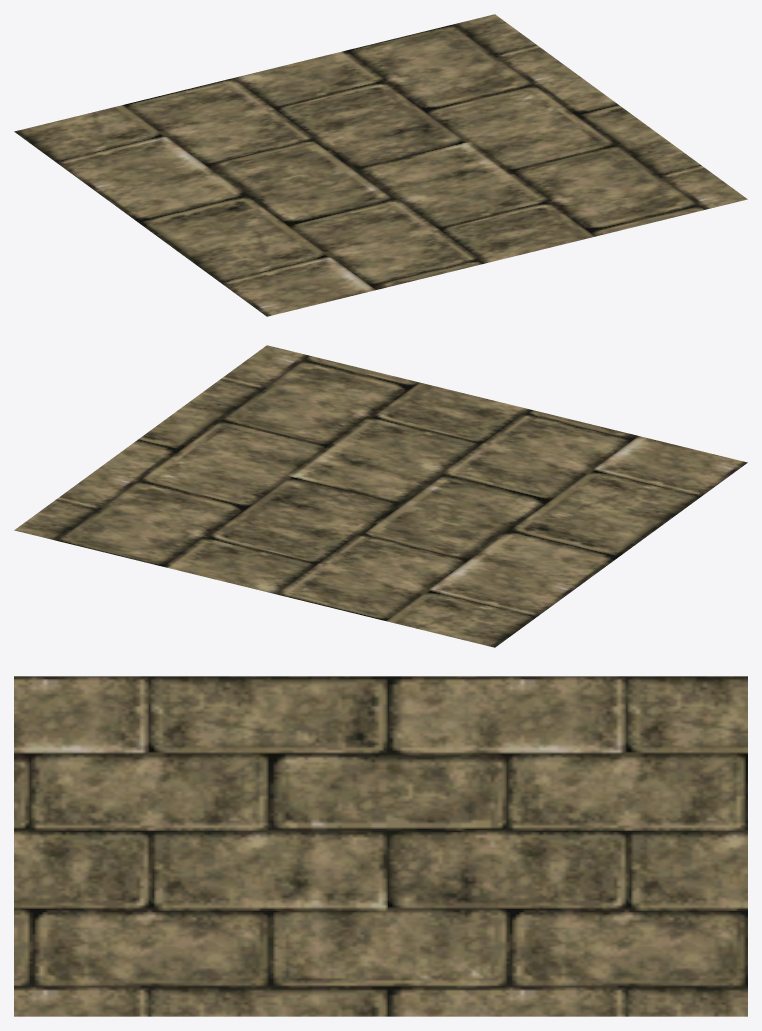
Rendered from OVERHILL_A_01_LINE194.fbx.
The picture shows the model from 3 angles, top to bottom: view 1: azimuth 30°, elevation 25°; view 2: azimuth 150°, elevation 25°; view 3: azimuth 270°, elevation 25°; orthographic projection. The views are drawn at different scales.
Visible parts, largest first — view 1: OVERHILL_A_01_LINE194; view 2: OVERHILL_A_01_LINE194; view 3: OVERHILL_A_01_LINE194.
Part boxes in pixels (<box>): OVERHILL_A_01_LINE194: <box>14,14,747,316</box>; OVERHILL_A_01_LINE194: <box>14,345,747,647</box>; OVERHILL_A_01_LINE194: <box>14,676,747,1016</box>.
Size of the model in its own units: 39909 by 0.0191 by 36360.
1 material, 1 textured.
